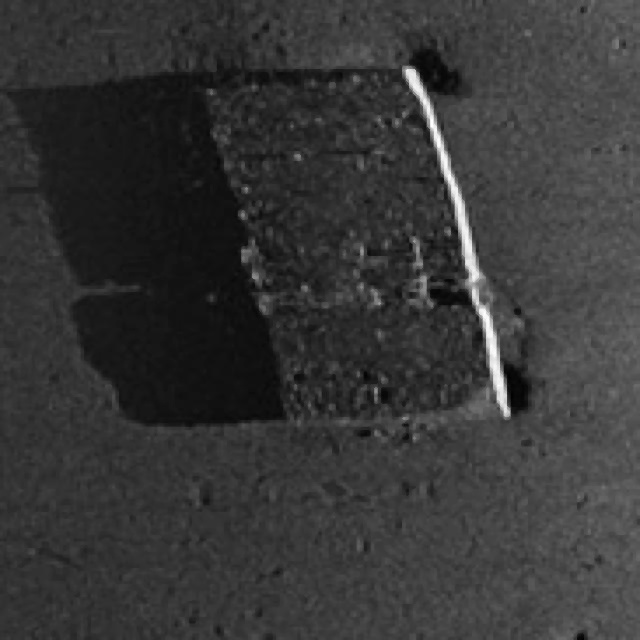Ship: (158, 41, 537, 451)
